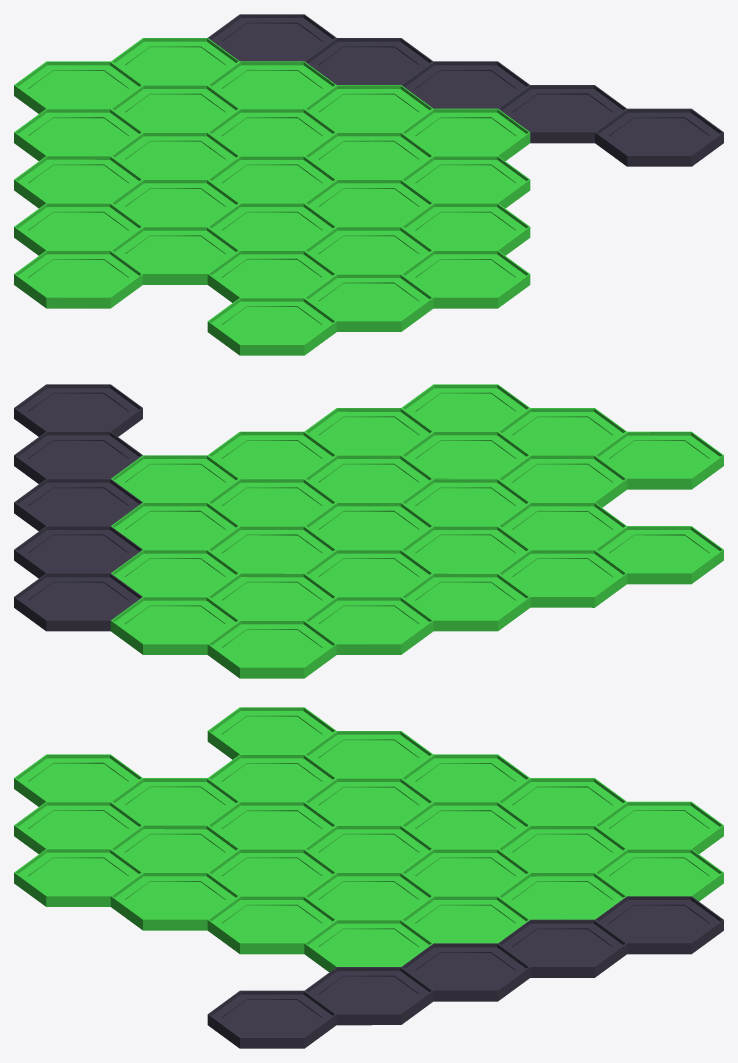
Rendered from MoldInsertStage1_3.fbx.
3 renders of one model, top to bottom at view 1: azimuth 30°, elevation 25°; view 2: azimuth 150°, elevation 25°; view 3: azimuth 270°, elevation 25°, orthographic.
Visible parts, largest first — view 1: MoldInsertStage1_3; view 2: MoldInsertStage1_3; view 3: MoldInsertStage1_3.
Boxes of the visible parts, x1,y1,x2,y2 form: MoldInsertStage1_3: (14,14,723,355); MoldInsertStage1_3: (14,384,723,678); MoldInsertStage1_3: (14,707,723,1048).
Bounding box in the file's own units: 1274 × 19.68 × 1156.
